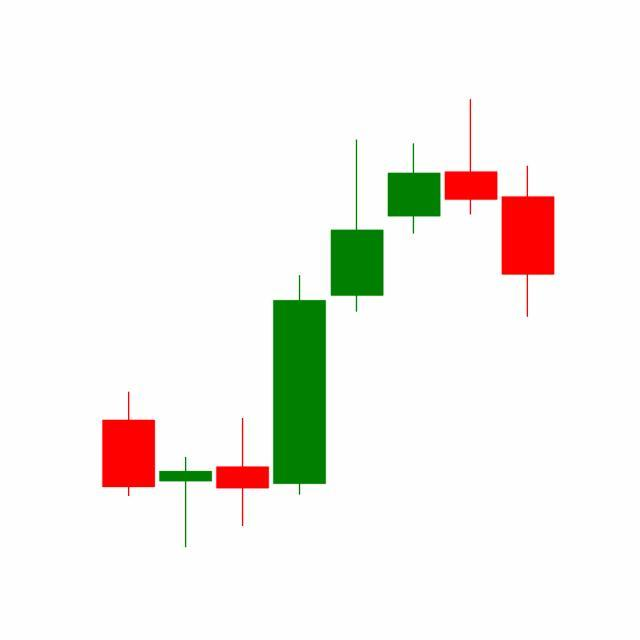Hikkake Pattern: (270, 100, 555, 500)
